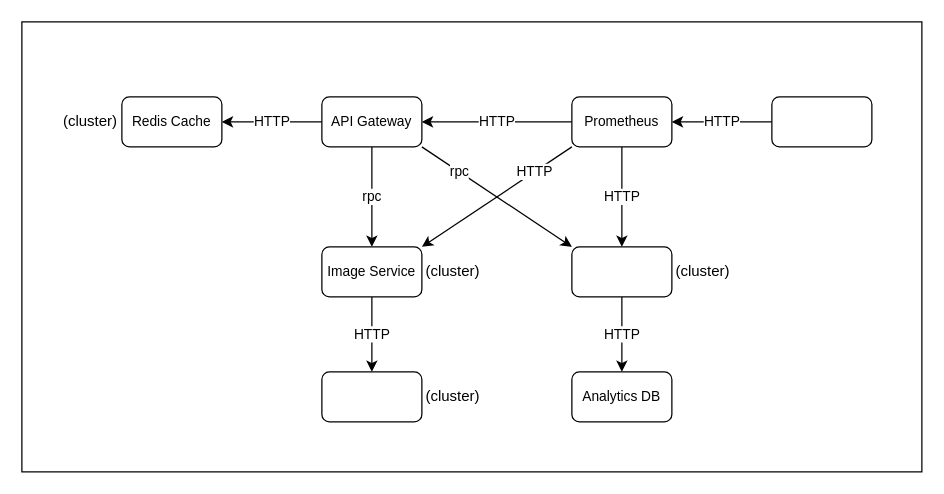
Some shapes in this 944 by 494 pixel diagram are drawn without their labels. The centre of each missing label's shape, as x and y in pixels:
Feed service: point 621,271
Grafana: point 821,121
Image DB: point 371,396
